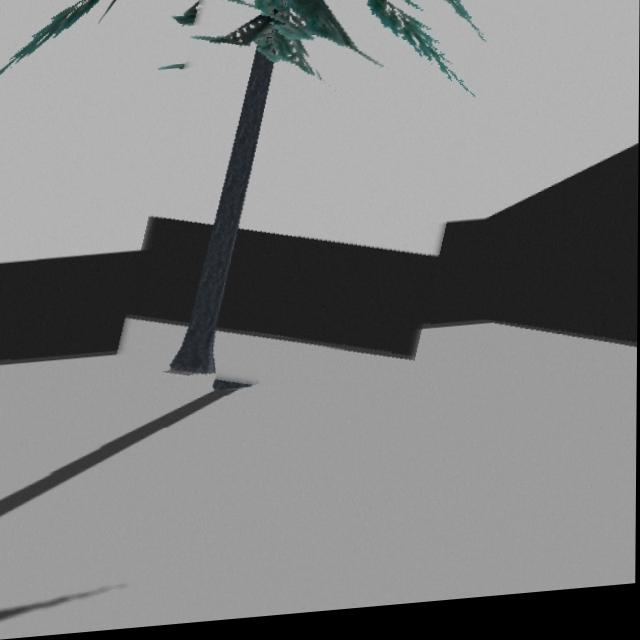tree: (170, 0, 384, 379)
